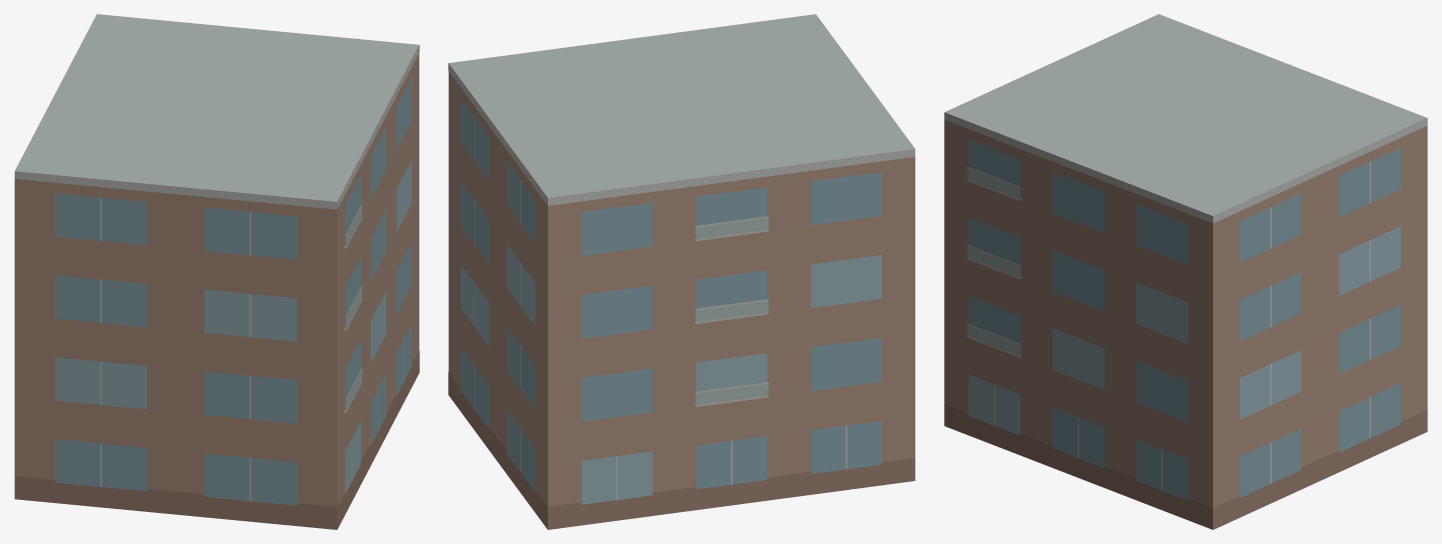
The model's file is survey-upis-32692829.glb.
The picture shows the model from 3 angles, left to right: view 1: azimuth 30°, elevation 25°; view 2: azimuth 150°, elevation 25°; view 3: azimuth 270°, elevation 25°; orthographic projection. The views are drawn at different scales.
Parts seen in each view (by area): view 1: survey-upis-32692829.tmp; view 2: survey-upis-32692829.tmp; view 3: survey-upis-32692829.tmp.
Boxes of the visible parts, x1,y1,x2,y2 form: survey-upis-32692829.tmp: [14, 14, 419, 529]; survey-upis-32692829.tmp: [448, 14, 915, 529]; survey-upis-32692829.tmp: [944, 14, 1427, 529].
Bounding box in the file's own units: 14.38 × 10.4 × 14.53.
